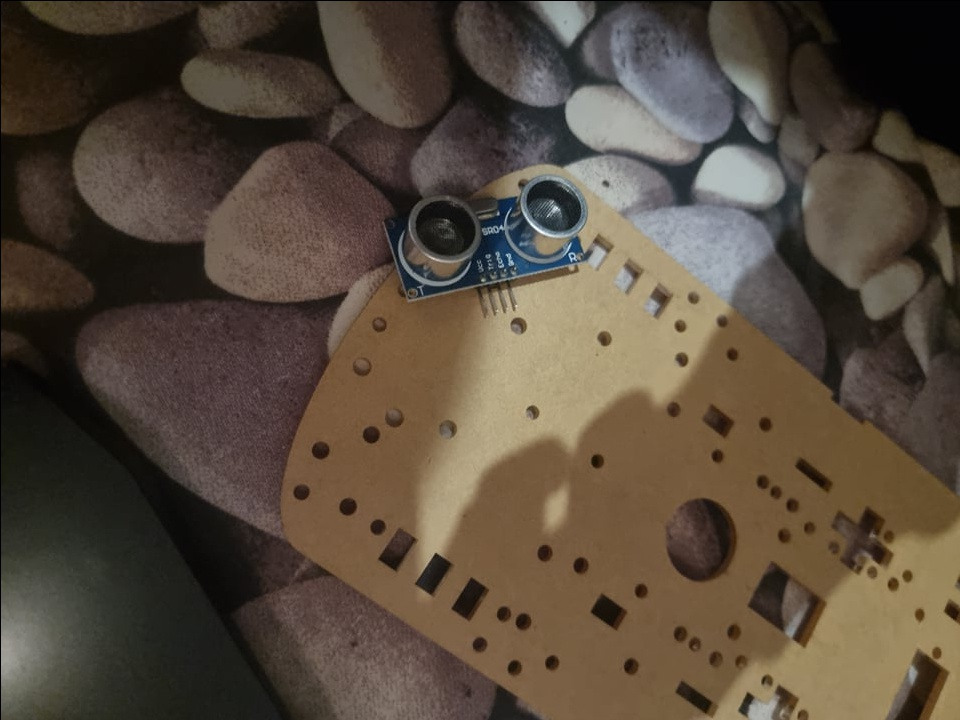SENSOR: (379, 172, 588, 300)
